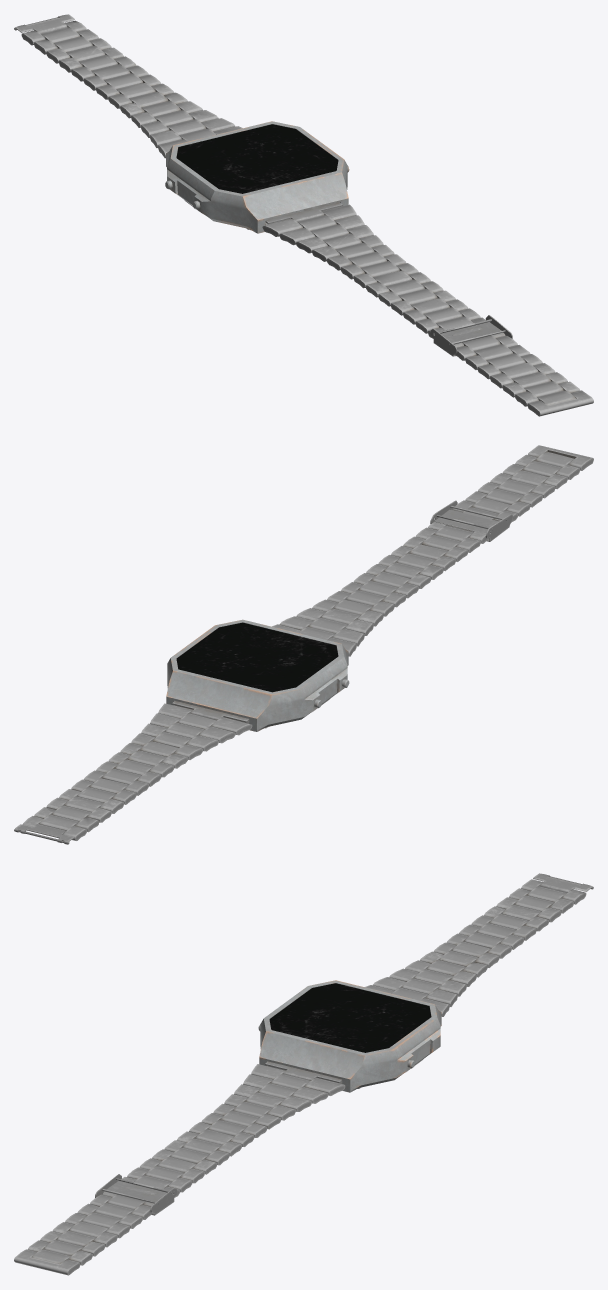
Rendered from digital_wrist_watch.glb.
3 views of the same model, one above another, from view 1: azimuth 30°, elevation 25°; view 2: azimuth 150°, elevation 25°; view 3: azimuth 330°, elevation 25° (orthographic).
Visible parts, largest first — view 1: digital_wrist_watch; view 2: digital_wrist_watch; view 3: digital_wrist_watch.
Part boxes in pixels (<box>): digital_wrist_watch: <box>14,14,593,416</box>; digital_wrist_watch: <box>14,445,593,844</box>; digital_wrist_watch: <box>14,873,593,1275</box>.
Size of the model in its own units: 0.0365 by 0.00835 by 0.2172.
2 materials, 2 textured.
